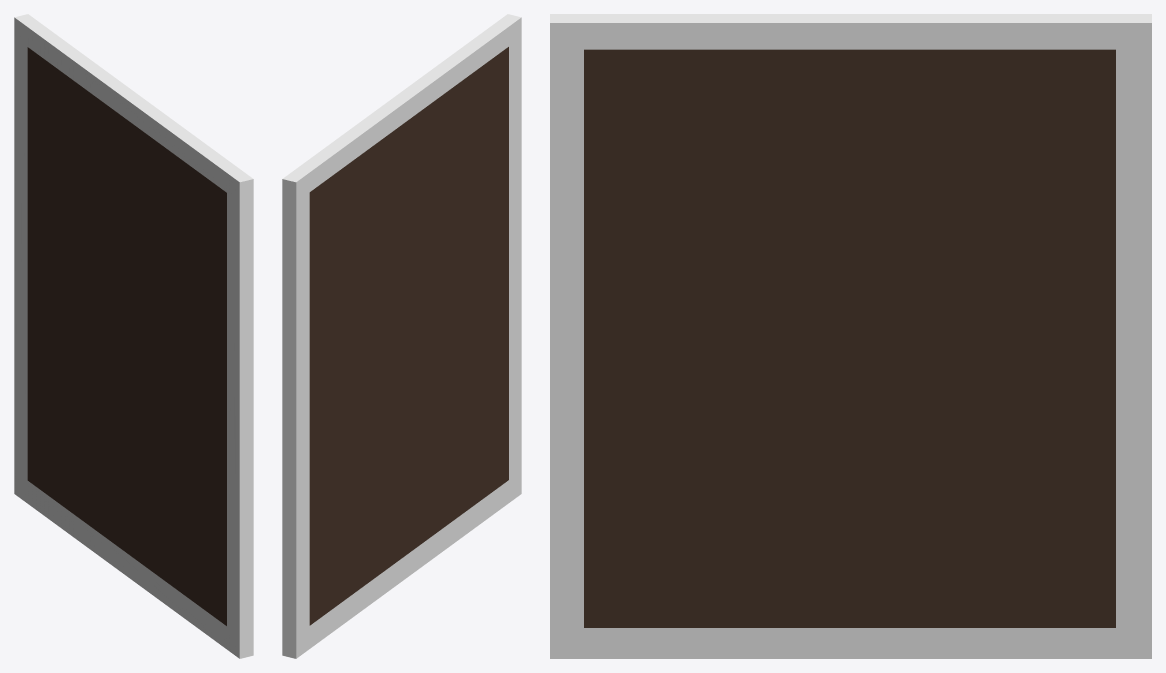
File: highscore_backboard.glb
The picture shows the model from 3 angles, left to right: view 1: azimuth 30°, elevation 25°; view 2: azimuth 150°, elevation 25°; view 3: azimuth 270°, elevation 25°; orthographic projection. The views are drawn at different scales.
Visible parts, largest first — view 1: Cube; view 2: Cube; view 3: Cube.
Part boxes in pixels (x1,y1,x2,y2): Cube: (14, 14, 253, 658); Cube: (282, 14, 521, 658); Cube: (550, 14, 1151, 658).
Bounding box in the file's own units: 0.2 × 6.6 × 5.66.
